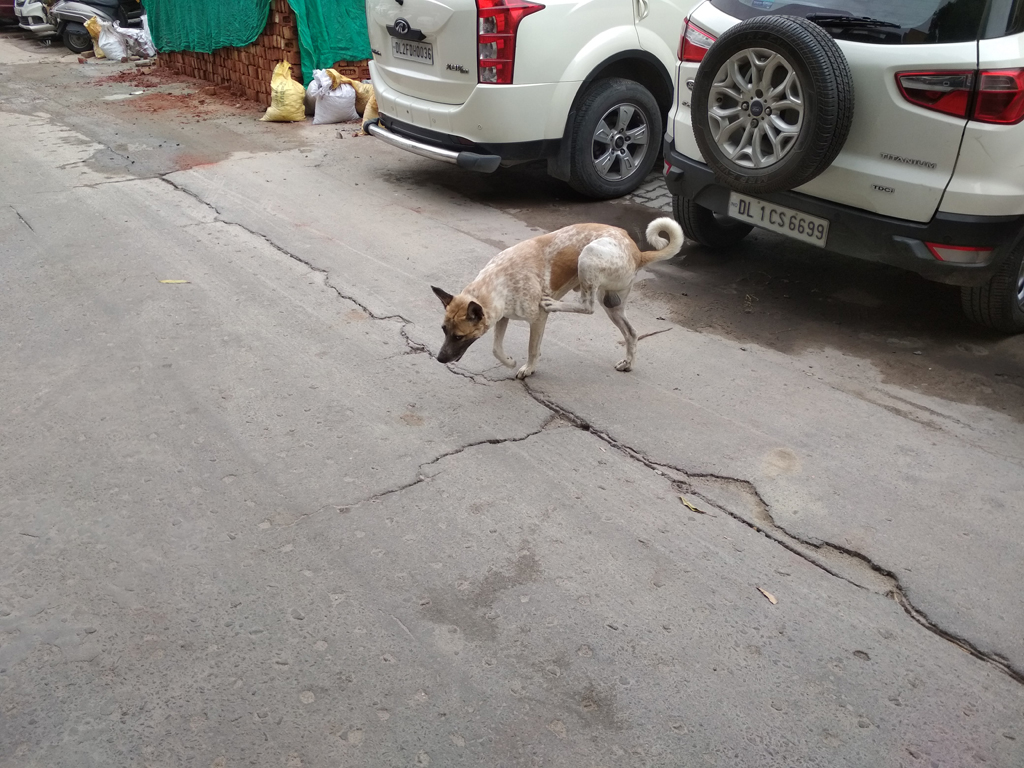dog: (430, 217, 683, 380)
